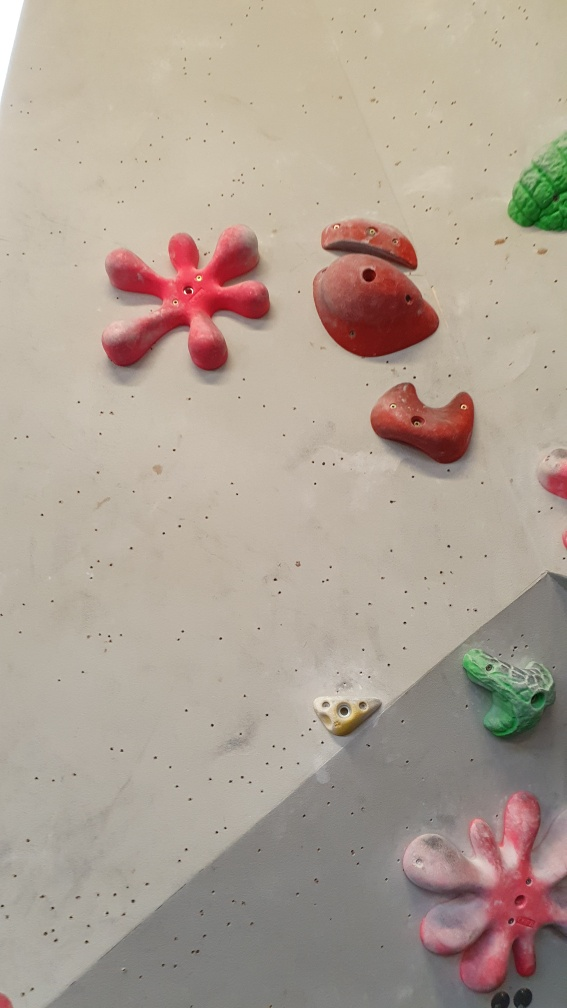Octopus Pinch: (401, 790, 567, 994), (100, 225, 274, 376)
